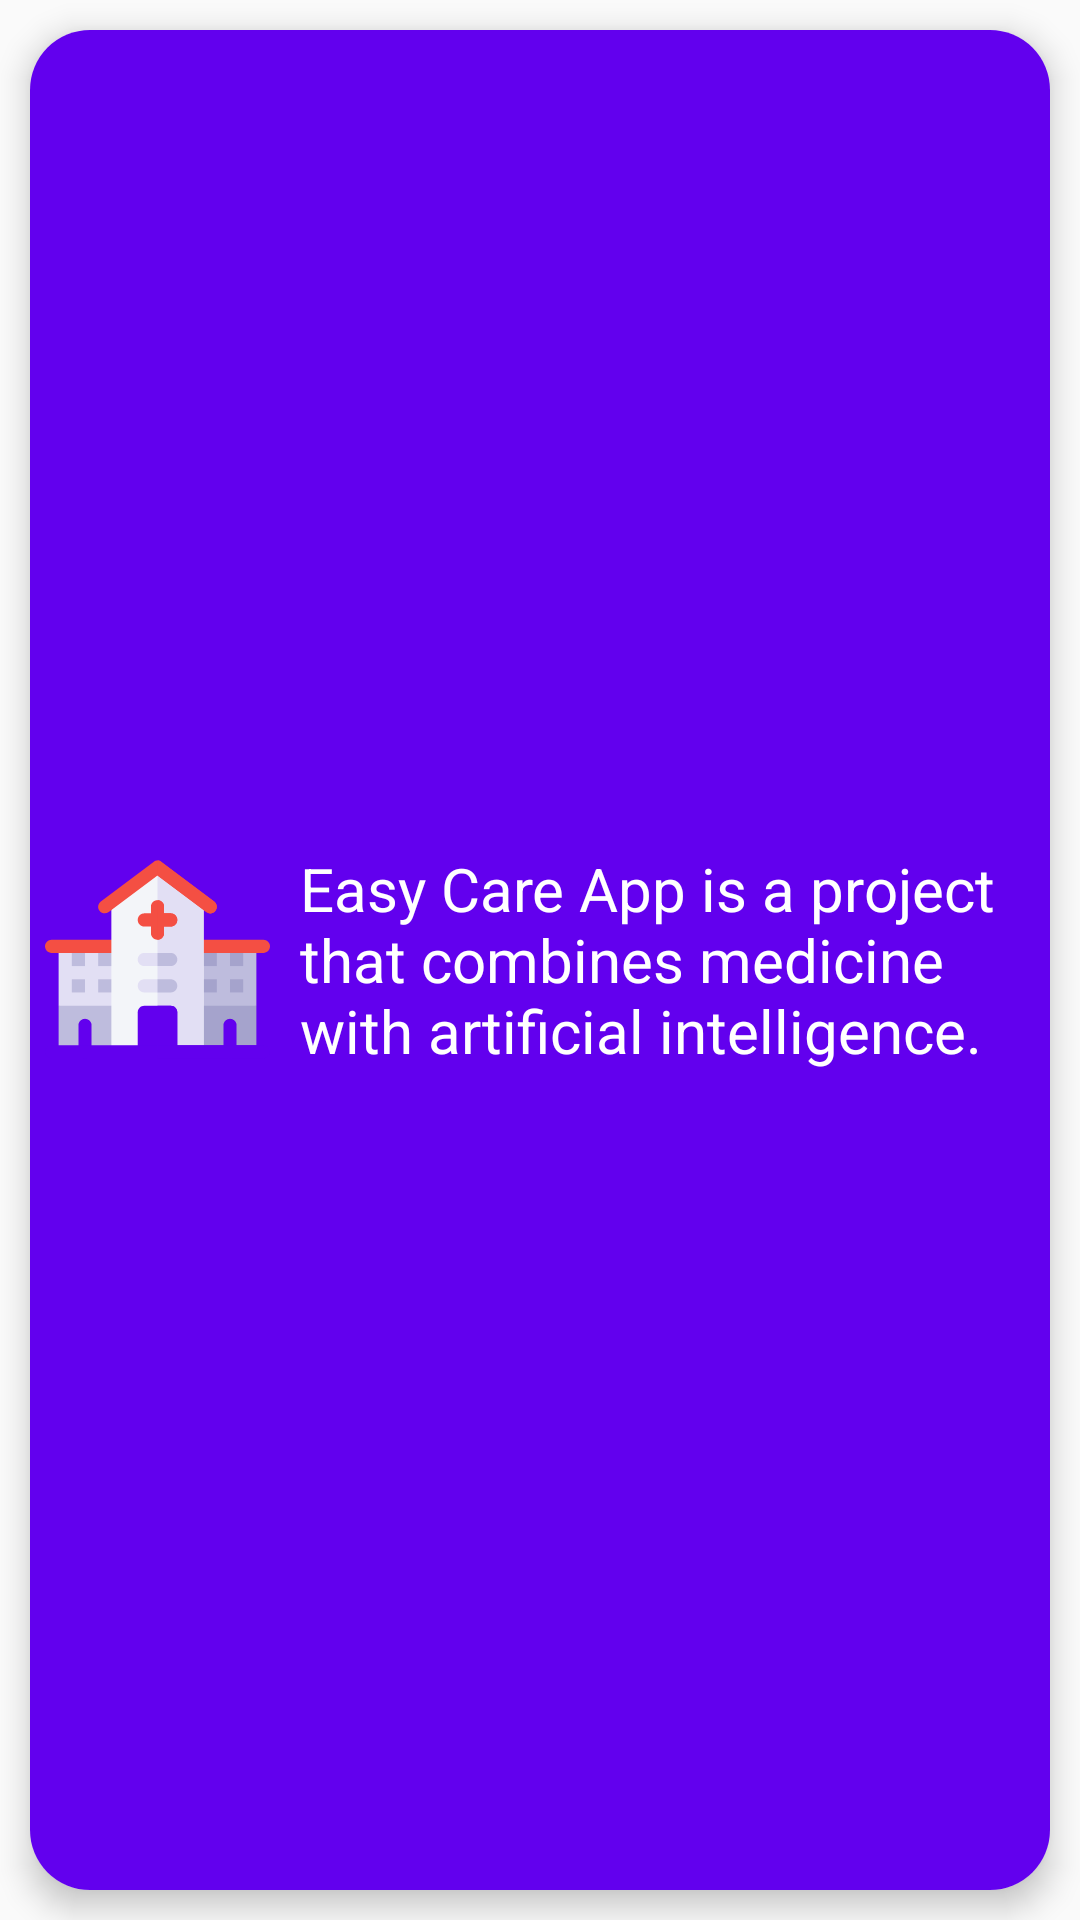

Icon click points for this 1080×1920 phone screenshot, format (x=x, y=y):
hospital: (x=157, y=953)
